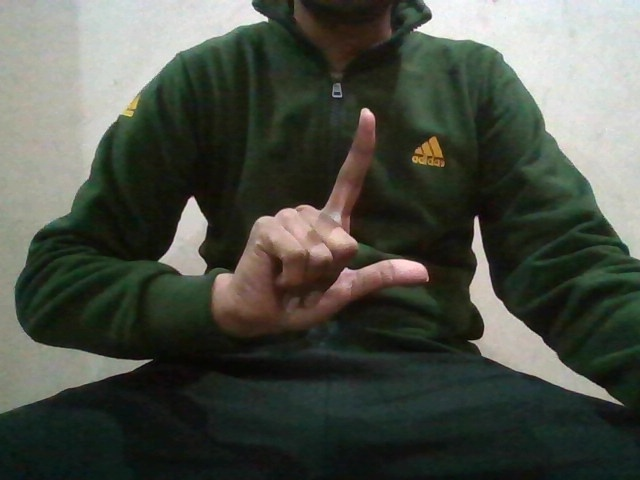L: (235, 101, 430, 334)
